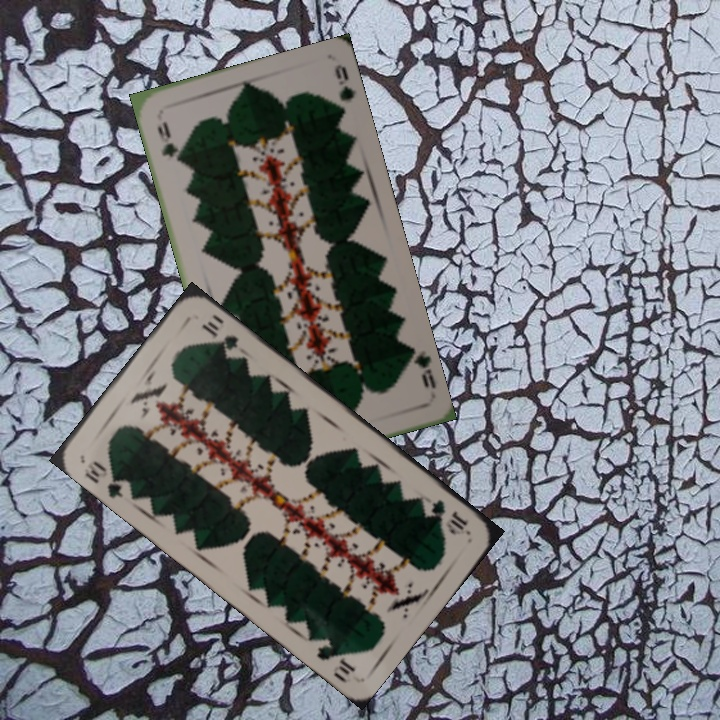G10: (80, 456, 134, 501), (426, 495, 471, 535)
G9: (404, 343, 439, 391), (153, 117, 184, 167)
